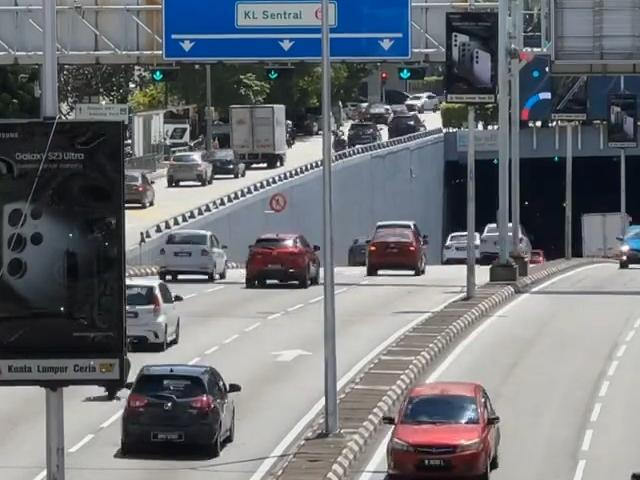car: (374, 375, 526, 480), (117, 353, 247, 465), (247, 228, 327, 290), (363, 212, 433, 278), (153, 224, 232, 280), (123, 280, 181, 351), (478, 221, 531, 265), (167, 151, 214, 187), (442, 230, 486, 266), (124, 168, 157, 209), (612, 223, 640, 271), (347, 122, 387, 149), (387, 113, 423, 141), (209, 148, 241, 179), (366, 105, 394, 125), (402, 95, 425, 113)
truck: (229, 103, 293, 167)
